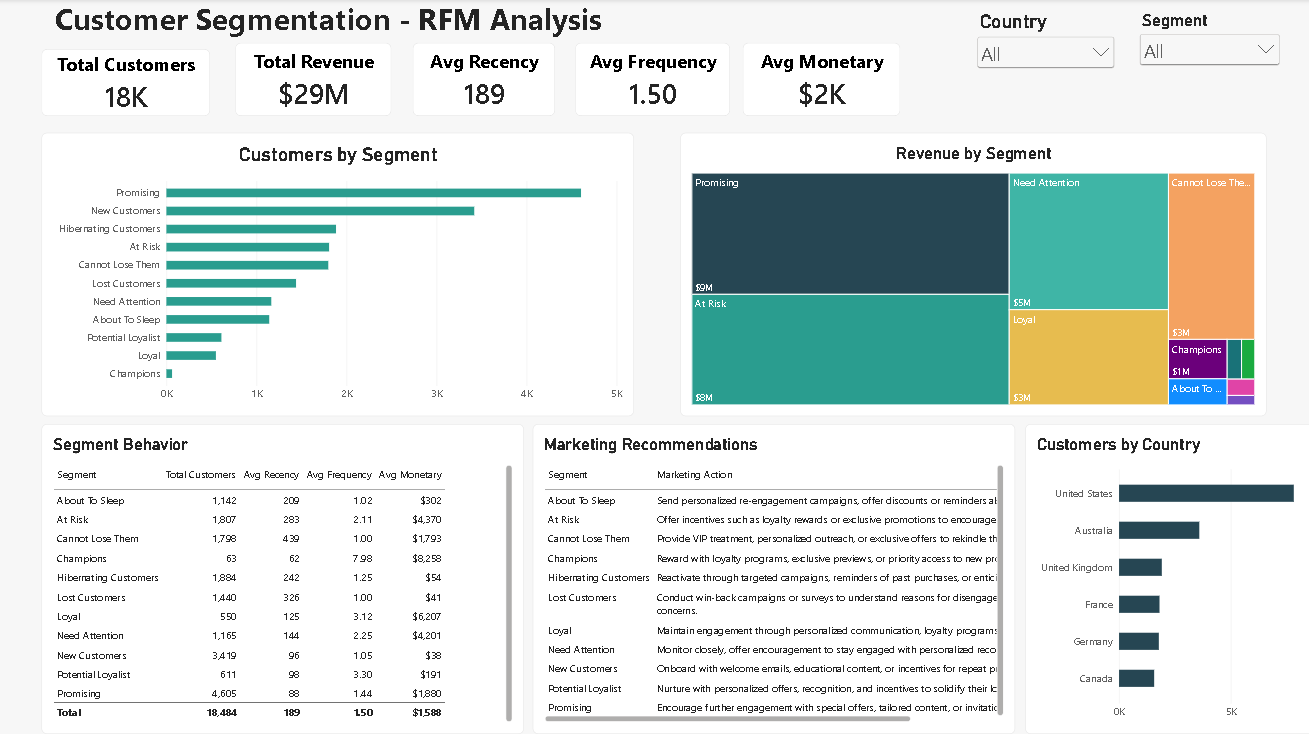

What the dashboard file says about the page in this screenshot:
{"tool":"powerbi","page":{"name":"Page 1","canvas":[1920,1080],"ordinal":0},"visuals":[{"type":"textbox","box":[49.4,0,885.1,80.3],"z":0},{"type":"cardVisual","fields":{"Data":["RFM.Total Customers"]},"box":[76,72.4,244.3,97.7],"z":1},{"type":"cardVisual","fields":{"Data":["RFM.Total Revenue"]},"box":[356.5,63.3,226.2,106.8],"z":2},{"type":"cardVisual","fields":{"Data":["RFM.Avg Recency"]},"box":[613.5,63.3,206.3,106.8],"z":3},{"type":"cardVisual","fields":{"Data":["RFM.Avg Frequency"]},"box":[848.7,63.3,224.4,106.8],"z":4},{"type":"cardVisual","fields":{"Data":["RFM.Avg Monetary"]},"box":[1091.2,63.3,228,106.8],"z":5},{"type":"clusteredBarChart","title":"Customers by Segment","fields":{"Category":["segment details.Segment"],"Y":["RFM.Total Customers"]},"box":[76,193.6,857.8,410.8],"z":6},{"type":"treemap","title":"Revenue by Segment","fields":{"Group":["segment details.Segment"],"Values":["RFM.Total Revenue"]},"box":[1000.7,193.6,848.7,410.8],"z":7},{"type":"tableEx","title":"\tSegment Behavior","fields":{"Values":["segment details.Segment","RFM.Total Customers","RFM.Avg Recency","RFM.Avg Frequency","RFM.Avg Monetary"]},"box":[76,615.3,698.5,448.8],"z":8},{"type":"tableEx","title":"Marketing Recommendations","fields":{"Values":["segment details.Segment","segment details.Marketing Action"]},"box":[787.2,615.3,698.5,448.8],"z":9},{"type":"clusteredBarChart","title":"Customers by Country","fields":{"Category":["RFM.Country"],"Y":["RFM.Total Customers"]},"box":[1500.2,615.3,419.8,448.8],"z":10},{"type":"slicer","fields":{"Values":["RFM.Country"]},"box":[1426.4,16.5,207.9,84.4],"z":11},{"type":"slicer","fields":{"Values":["segment details.Segment"]},"box":[1661.1,16.5,212,84.4],"z":12}]}

Visuals, with their boxes in screenshot pixels (x1, y1, x2, y2), scaled from the page's 1920x1080 canvas onto the 1309x734 screenshot:
textbox: pyautogui.locateOnScreen(34, 0, 637, 55)
cardVisual - RFM.Total Customers: pyautogui.locateOnScreen(52, 49, 218, 116)
cardVisual - RFM.Total Revenue: pyautogui.locateOnScreen(243, 43, 397, 116)
cardVisual - RFM.Avg Recency: pyautogui.locateOnScreen(418, 43, 559, 116)
cardVisual - RFM.Avg Frequency: pyautogui.locateOnScreen(579, 43, 732, 116)
cardVisual - RFM.Avg Monetary: pyautogui.locateOnScreen(744, 43, 899, 116)
"Customers by Segment" clusteredBarChart: pyautogui.locateOnScreen(52, 132, 637, 411)
"Revenue by Segment" treemap: pyautogui.locateOnScreen(682, 132, 1261, 411)
"	Segment Behavior" tableEx: pyautogui.locateOnScreen(52, 418, 528, 723)
"Marketing Recommendations" tableEx: pyautogui.locateOnScreen(537, 418, 1013, 723)
"Customers by Country" clusteredBarChart: pyautogui.locateOnScreen(1023, 418, 1308, 723)
slicer - RFM.Country: pyautogui.locateOnScreen(972, 11, 1114, 69)
slicer - segment details.Segment: pyautogui.locateOnScreen(1132, 11, 1277, 69)
